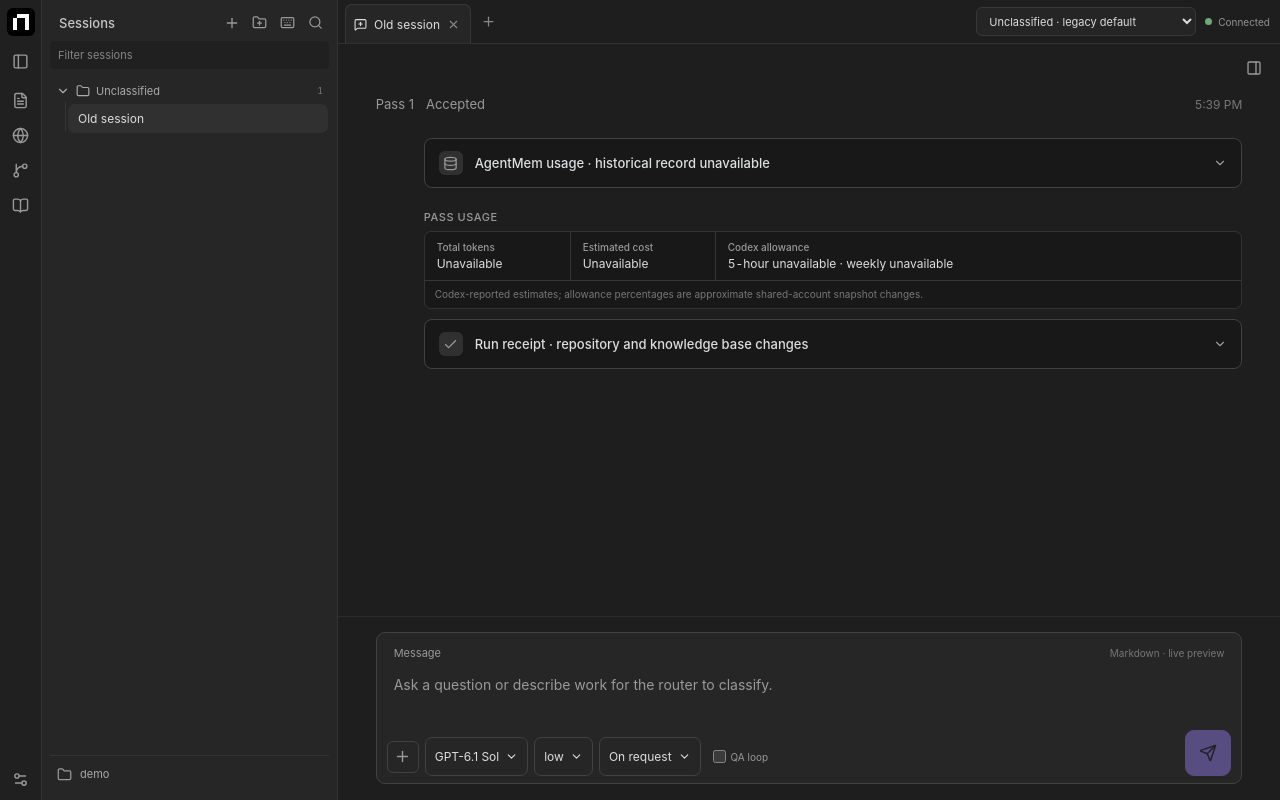
Test: local task shell › labels historical passes without an audit as unknown rather than unused
The width and height of the screenshot is (1280, 800).
Click the button "AgentMem usage · historical record unavailable".
click(622, 163)  # box [425, 139, 1241, 187]
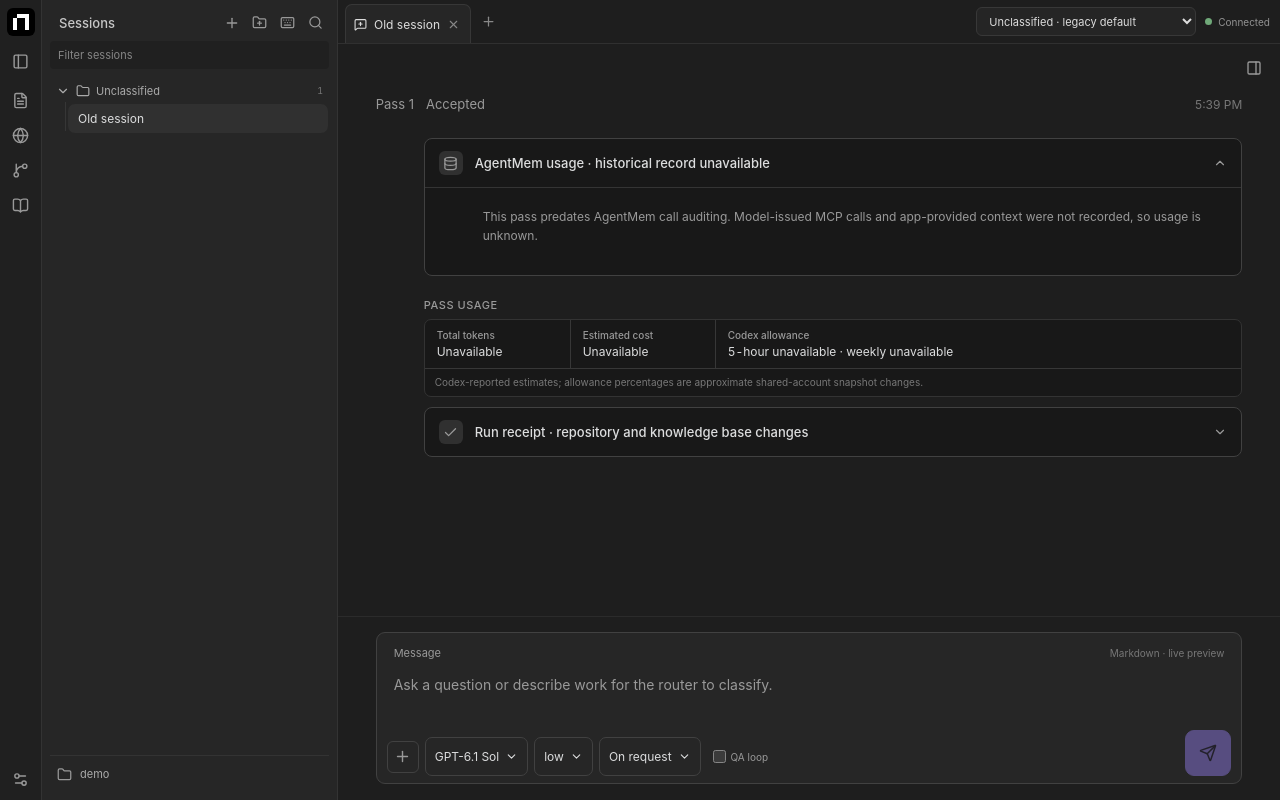
Check: the text "usage is unknown" is shown, box [483, 209, 1201, 243]
